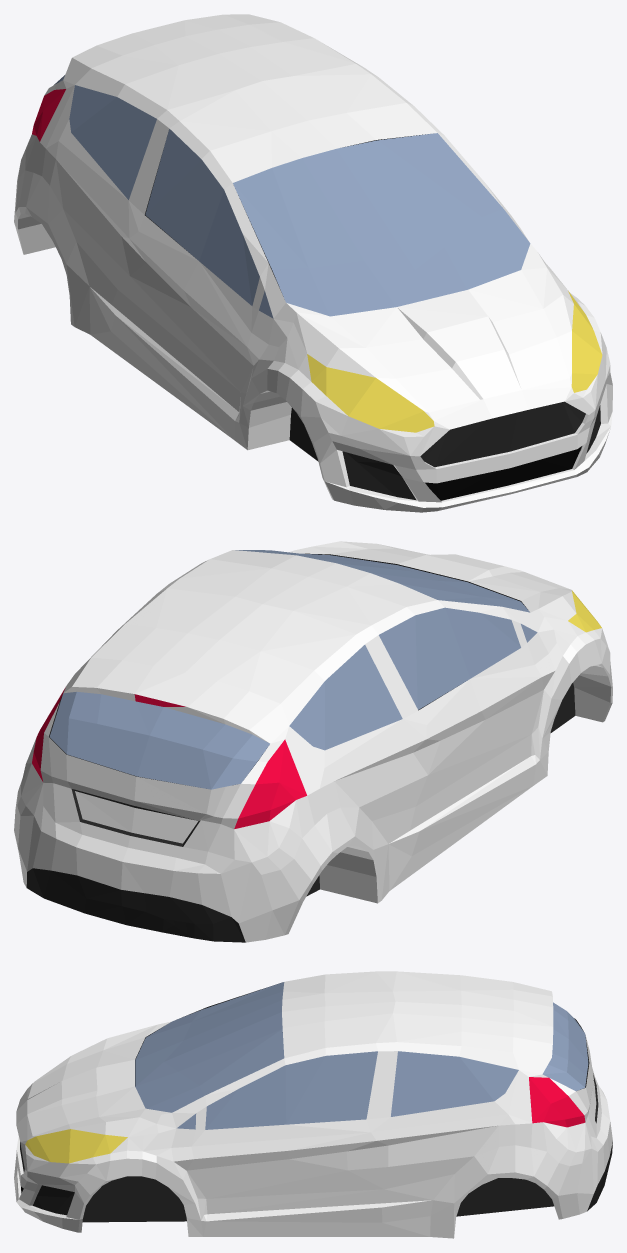
Rendered from Party (Collider).fbx.
3 views of the same model, one above another, from view 1: azimuth 30°, elevation 25°; view 2: azimuth 150°, elevation 25°; view 3: azimuth 270°, elevation 25° (orthographic). The views are drawn at different scales.
Parts seen in each view (by area): view 1: Collider; view 2: Collider; view 3: Collider.
Part boxes in pixels (left/top/right/bottom): Collider: left=14, top=14, right=612, bottom=512; Collider: left=14, top=541, right=612, bottom=942; Collider: left=14, top=971, right=612, bottom=1238.
Bounding box in the file's own units: 1.77 × 3.9 × 1.3.
